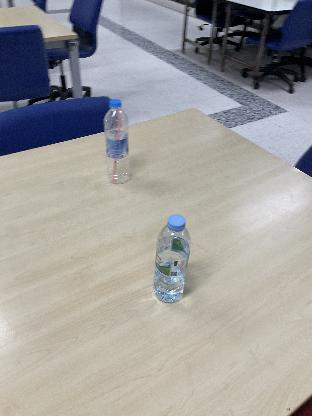Plastic Bottle: (152, 212, 192, 304), (100, 96, 136, 186)
